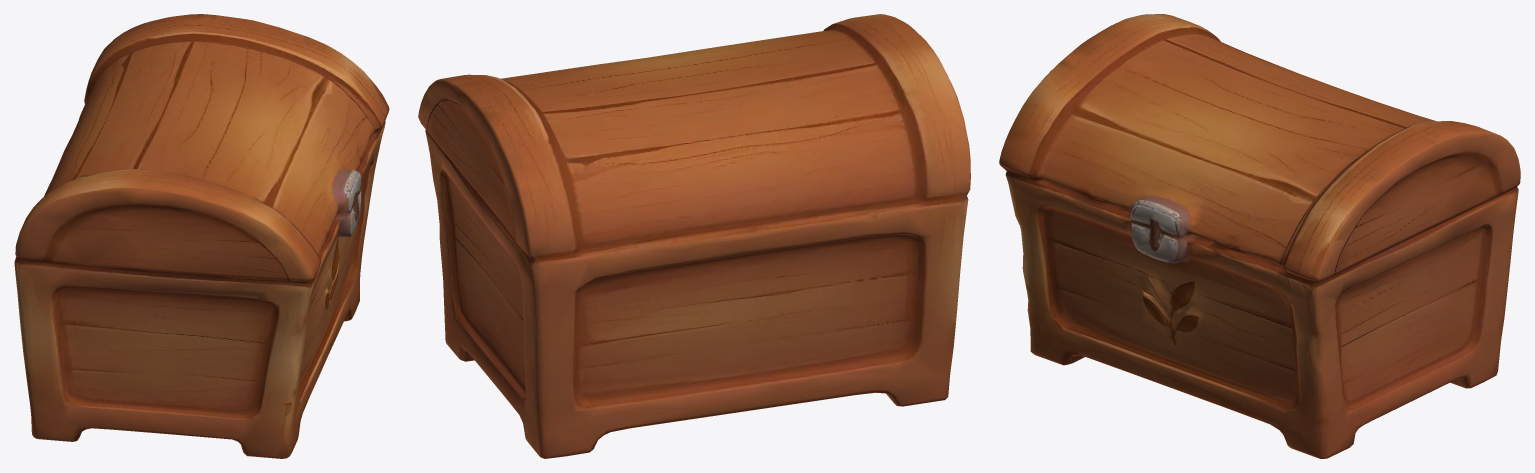
File: truhe_wald_a.glb
3 views of the same model, side by side, from view 1: azimuth 30°, elevation 25°; view 2: azimuth 150°, elevation 25°; view 3: azimuth 270°, elevation 25° (orthographic). The views are drawn at different scales.
Visible parts, largest first — view 1: tripo_node_e63d538b-8b1c-45aa-b8a5-a1b534752810; view 2: tripo_node_e63d538b-8b1c-45aa-b8a5-a1b534752810; view 3: tripo_node_e63d538b-8b1c-45aa-b8a5-a1b534752810.
Boxes of the visible parts, x1,y1,x2,y2 form: tripo_node_e63d538b-8b1c-45aa-b8a5-a1b534752810: (14, 14, 389, 458); tripo_node_e63d538b-8b1c-45aa-b8a5-a1b534752810: (418, 14, 970, 458); tripo_node_e63d538b-8b1c-45aa-b8a5-a1b534752810: (999, 14, 1520, 458).
Size of the model in its own units: 0.8331 by 0.5 by 0.8536.
Materials: 1 (1 with a texture image).
